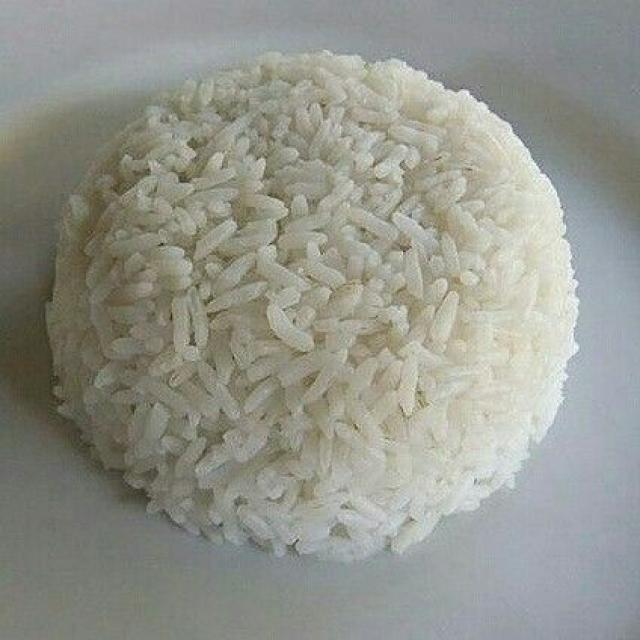Chicken -Chicken Inasal-: (72, 49, 572, 549)
